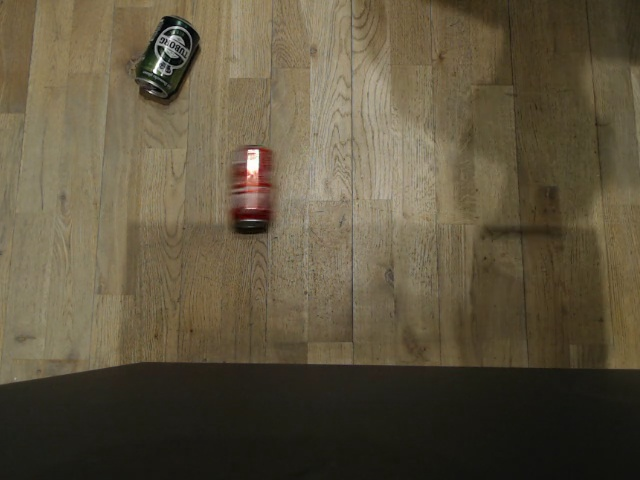beer: (133, 13, 199, 100)
cola: (226, 145, 279, 229)
